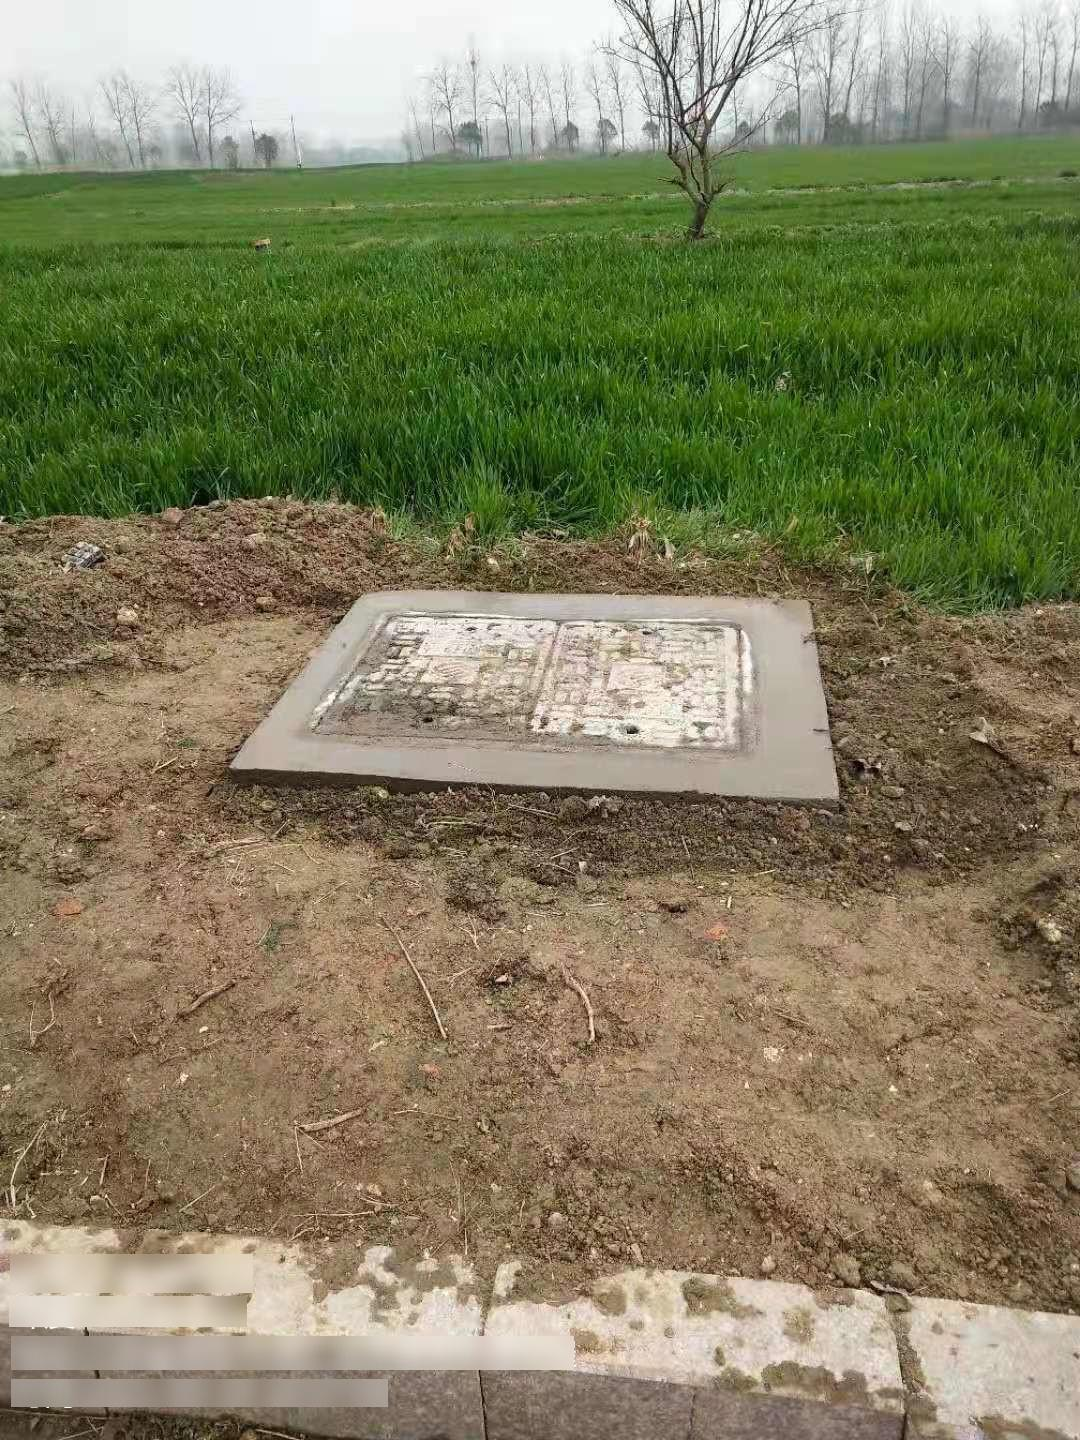wellcover: (236, 586, 838, 789)
